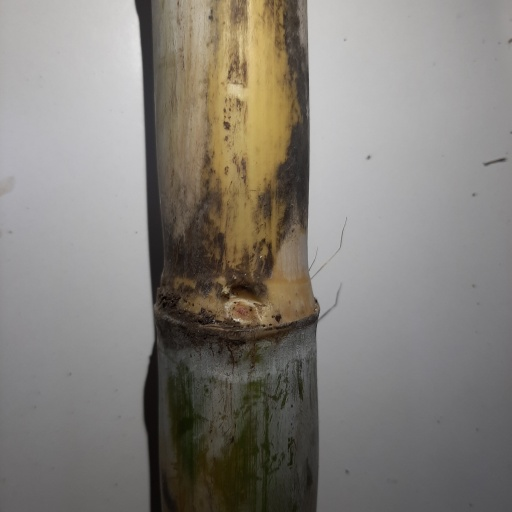Damage_Bud: (225, 287, 260, 325)
